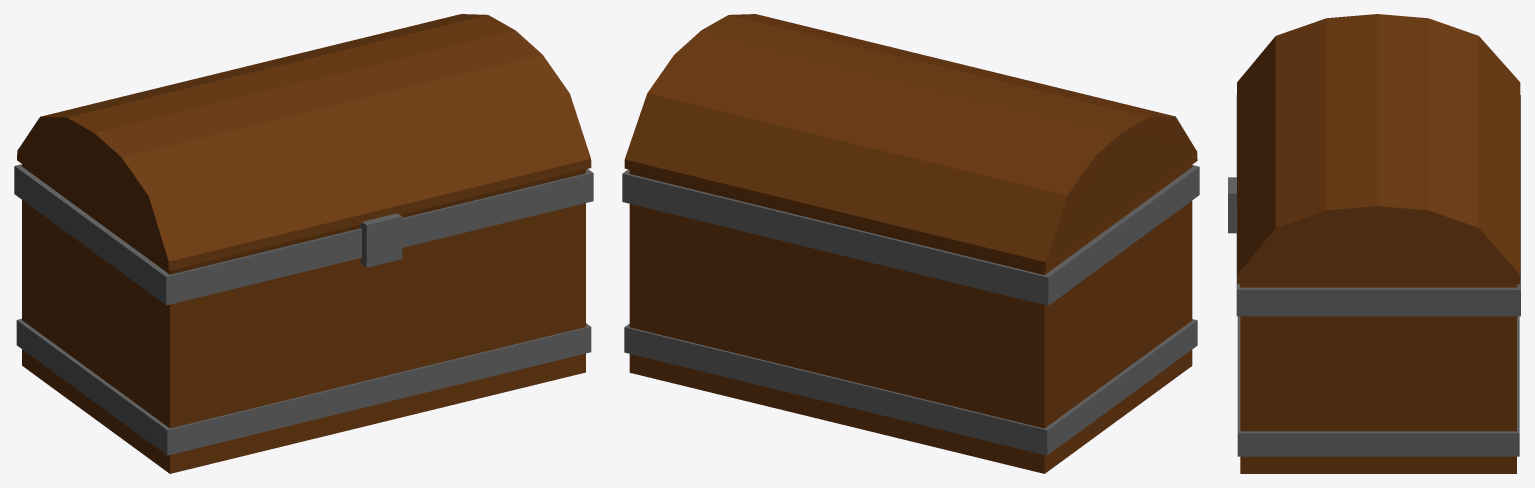
Rendered from chest.dae.
3 views of the same model, side by side, from view 1: azimuth 30°, elevation 25°; view 2: azimuth 150°, elevation 25°; view 3: azimuth 270°, elevation 25° (orthographic). The views are drawn at different scales.
Parts seen in each view (by area): view 1: Cube; view 2: Cube; view 3: Cube.
Boxes of the visible parts, left/top/right/bottom form: Cube: left=14, top=14, right=593, bottom=473; Cube: left=622, top=14, right=1199, bottom=473; Cube: left=1228, top=14, right=1520, bottom=473.
Size of the model in its own units: 3.33 by 2.15 by 2.12.
